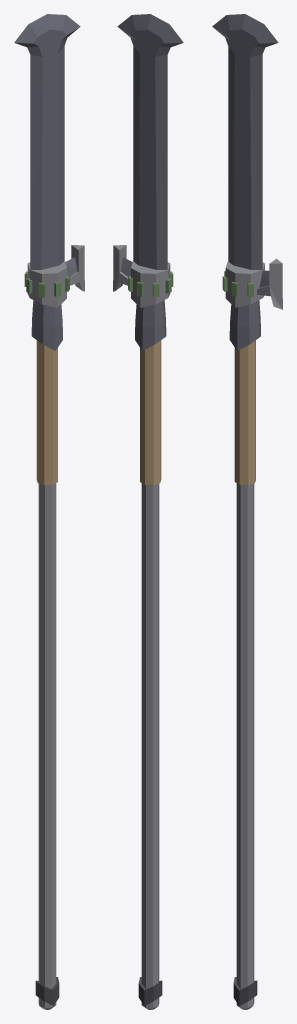
File: Lanca_B19.fbx
3 views of the same model, side by side, from view 1: azimuth 30°, elevation 25°; view 2: azimuth 150°, elevation 25°; view 3: azimuth 330°, elevation 25° (orthographic).
Parts seen in each view (by area): view 1: polearm_19; view 2: polearm_19; view 3: polearm_19.
Boxes of the visible parts, x1,y1,x2,y2 form: polearm_19: (14,14,84,1009); polearm_19: (113,14,183,1009); polearm_19: (212,14,282,1009).
Size of the model in its own units: 15.39 by 206 by 8.5.
